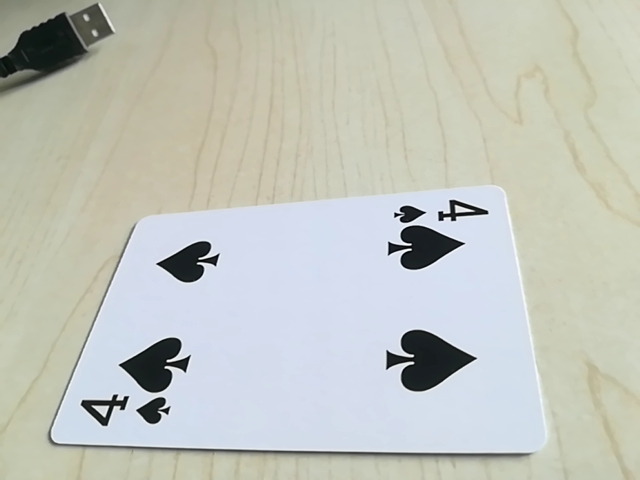ht 4: (63, 390, 179, 439), (389, 193, 494, 229)
